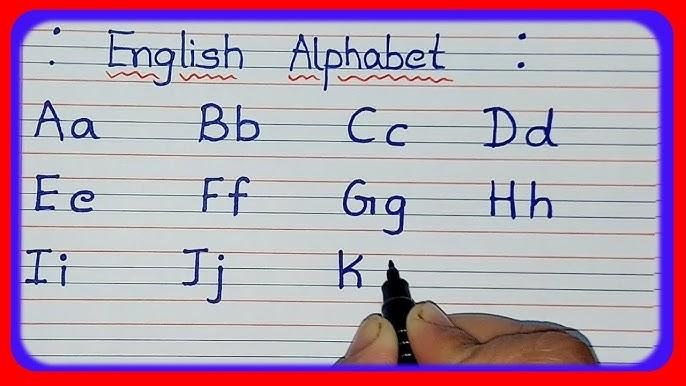text: (106, 27, 456, 97), (341, 178, 409, 238), (481, 105, 561, 152), (30, 99, 104, 144), (487, 178, 554, 223), (179, 247, 230, 306), (195, 102, 263, 144), (345, 106, 411, 149), (32, 173, 97, 216), (198, 174, 253, 218), (23, 247, 70, 290), (335, 248, 365, 292)
